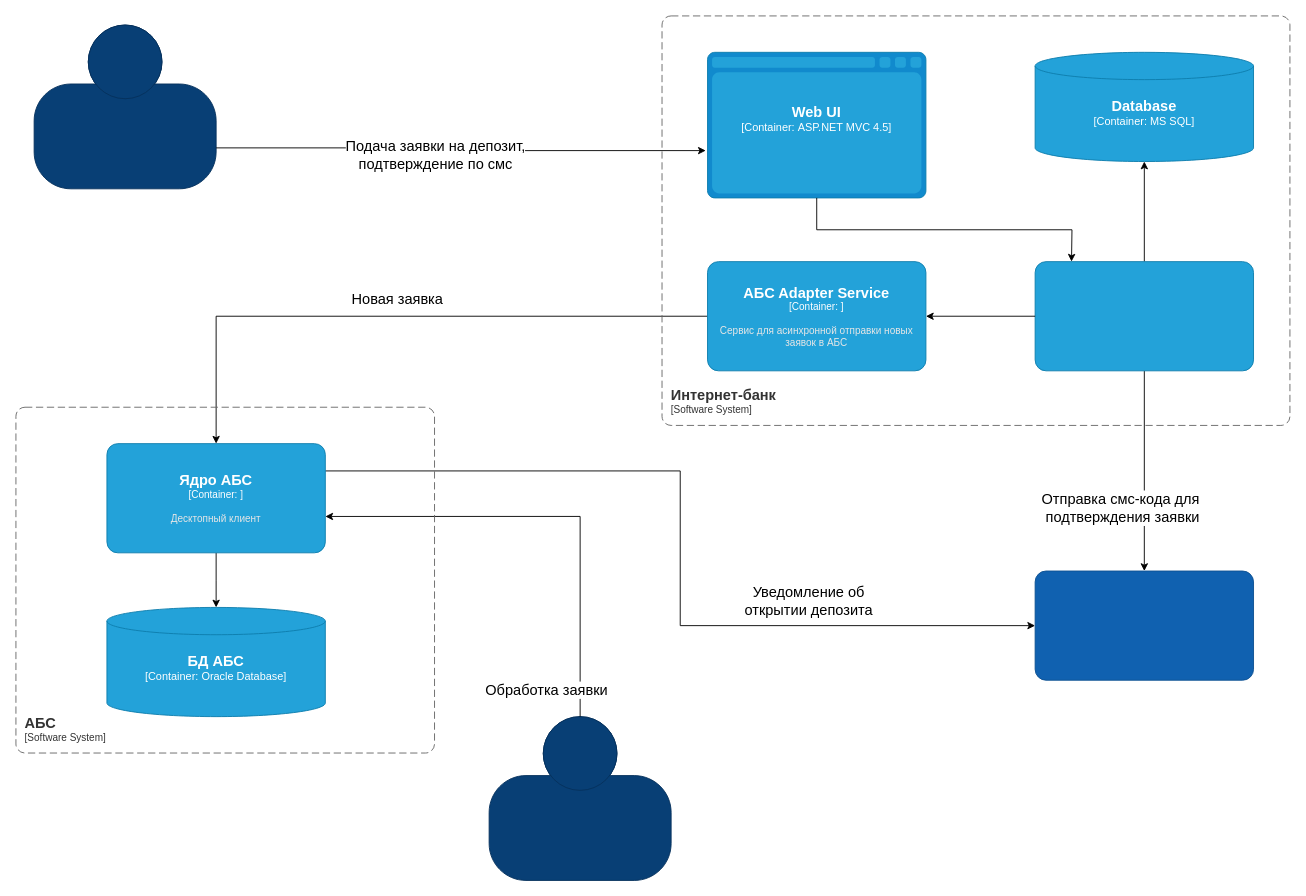
The diagram is 1306 pixels wide and 896 high, and some of its shapes have lost their labels. The centre of each missing label's shape, as x and y in pixels:
IB Monolith [Container: e.g. SpringBoot, ElasticSearch, etc.]: the point at 1144,316
Клиент [Person]: the point at 124,106
СМС-шлюз [Software System]: the point at 1144,625
Сотрудник бэк-офиса [Person]: the point at 579,798
